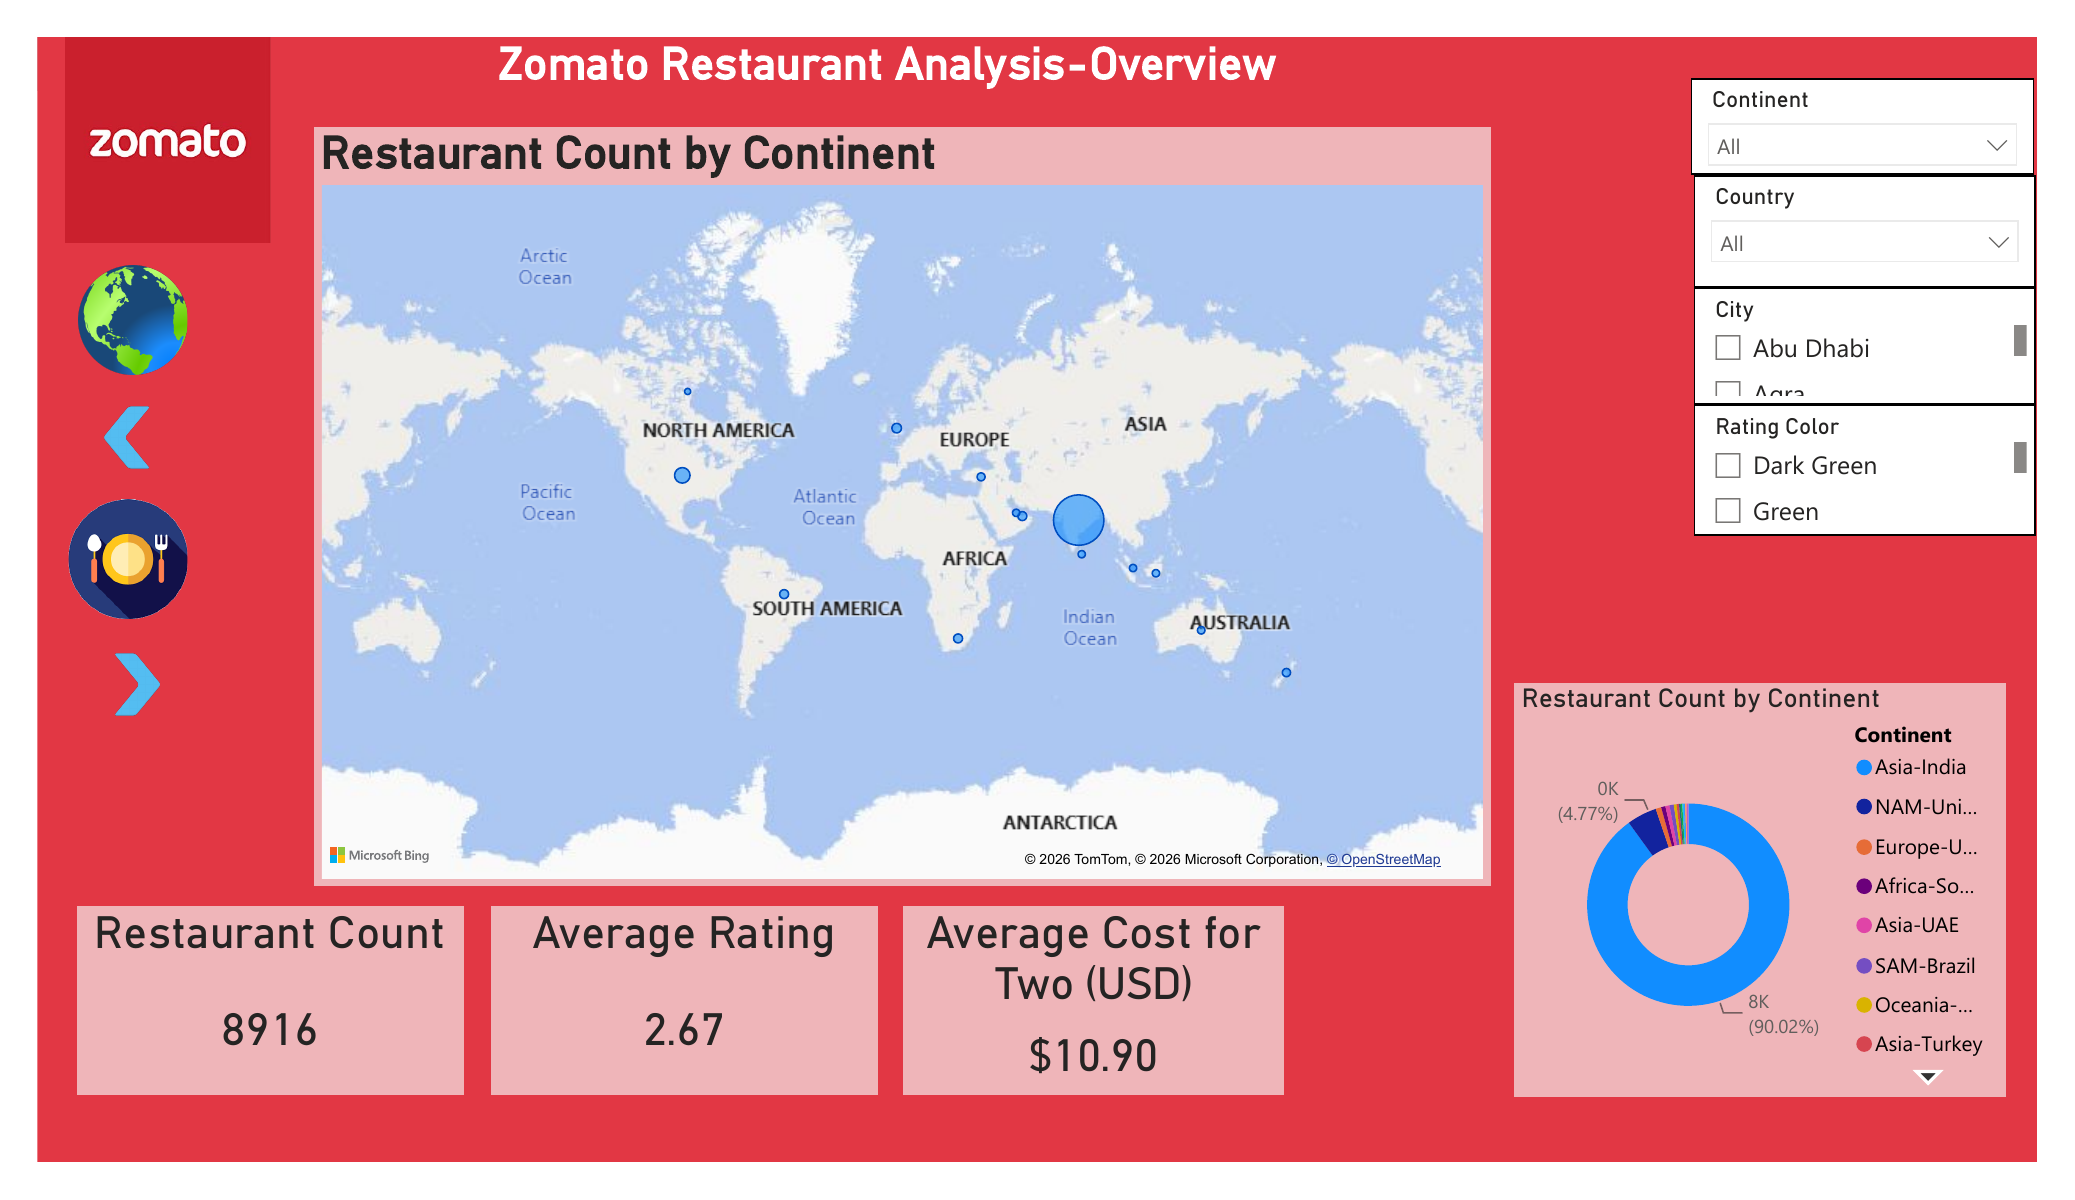

The page's visual inventory and layout, read from the dashboard file:
{"tool":"powerbi","page":{"name":"Overview","canvas":[1280,720],"ordinal":0},"visuals":[{"type":"card","title":"Restaurant Count","fields":{"Values":["Fact_Restaurants.Restaurant Count"]},"box":[25,556.2,247.9,120.8],"z":0},{"type":"card","title":"Average Rating","fields":{"Values":["Fact_Restaurants.Average Rating"]},"box":[289.6,556.2,247.9,120.8],"z":1000},{"type":"card","title":"Average Cost for Two (USD)","fields":{"Values":["Fact_Restaurants.Average Cost USD"]},"box":[554.2,556.2,243.8,120.8],"z":2000},{"type":"map","title":"Restaurant Count by Continent","fields":{"Category":["Dim_Country.Country"],"Size":["Fact_Restaurants.Restaurant Count"]},"box":[176.7,56.7,753.3,486.7],"z":3000},{"type":"textbox","title":"Zomato Restaurant Analysis-Overview","box":[289.8,0,819.3,116.6],"z":4000},{"type":"donutChart","fields":{"Category":["Dim_Country.Continent"],"Y":["Fact_Restaurants.Restaurant Count"]},"box":[945,413.3,315,265],"z":5000},{"type":"slicer","fields":{"Values":["Dim_Country.Country"]},"box":[1060.4,87.5,218.8,72.9],"z":6000},{"type":"slicer","fields":{"Values":["Dim_Country.Continent"]},"box":[1058,26,220,62],"z":7000},{"type":"slicer","fields":{"Values":["Fact_Restaurants.City"]},"box":[1060.4,160.4,218.8,75],"z":8000},{"type":"slicer","fields":{"Values":["Fact_Restaurants.Rating Color"]},"box":[1060.4,235.4,218.8,83.3],"z":9000},{"type":"image","box":[0,0,165.8,131.1],"z":10000},{"type":"image","box":[26,139.8,70.4,81.9],"z":11000},{"type":"image","box":[4,236,106,40],"z":12000},{"type":"image","box":[20,292,76,84],"z":13000},{"type":"image","box":[4,394,120,40],"z":14000}]}

Visuals, with their boxes on the page's 1280x720 design canvas (x1, y1, x2, y2). These are canvas units, not pixel positions in the 2075x1200 screenshot, which may show the page scaled, cropped or inside an application window:
"Restaurant Count" card: left=25, top=556, right=273, bottom=677
"Average Rating" card: left=290, top=556, right=538, bottom=677
"Average Cost for Two (USD)" card: left=554, top=556, right=798, bottom=677
"Restaurant Count by Continent" map: left=177, top=57, right=930, bottom=543
"Zomato Restaurant Analysis-Overview" textbox: left=290, top=0, right=1109, bottom=117
donutChart - Dim_Country.Continent x Fact_Restaurants.Restaurant Count: left=945, top=413, right=1260, bottom=678
slicer - Dim_Country.Country: left=1060, top=88, right=1279, bottom=160
slicer - Dim_Country.Continent: left=1058, top=26, right=1278, bottom=88
slicer - Fact_Restaurants.City: left=1060, top=160, right=1279, bottom=235
slicer - Fact_Restaurants.Rating Color: left=1060, top=235, right=1279, bottom=319
image: left=0, top=0, right=166, bottom=131
image: left=26, top=140, right=96, bottom=222
image: left=4, top=236, right=110, bottom=276
image: left=20, top=292, right=96, bottom=376
image: left=4, top=394, right=124, bottom=434
